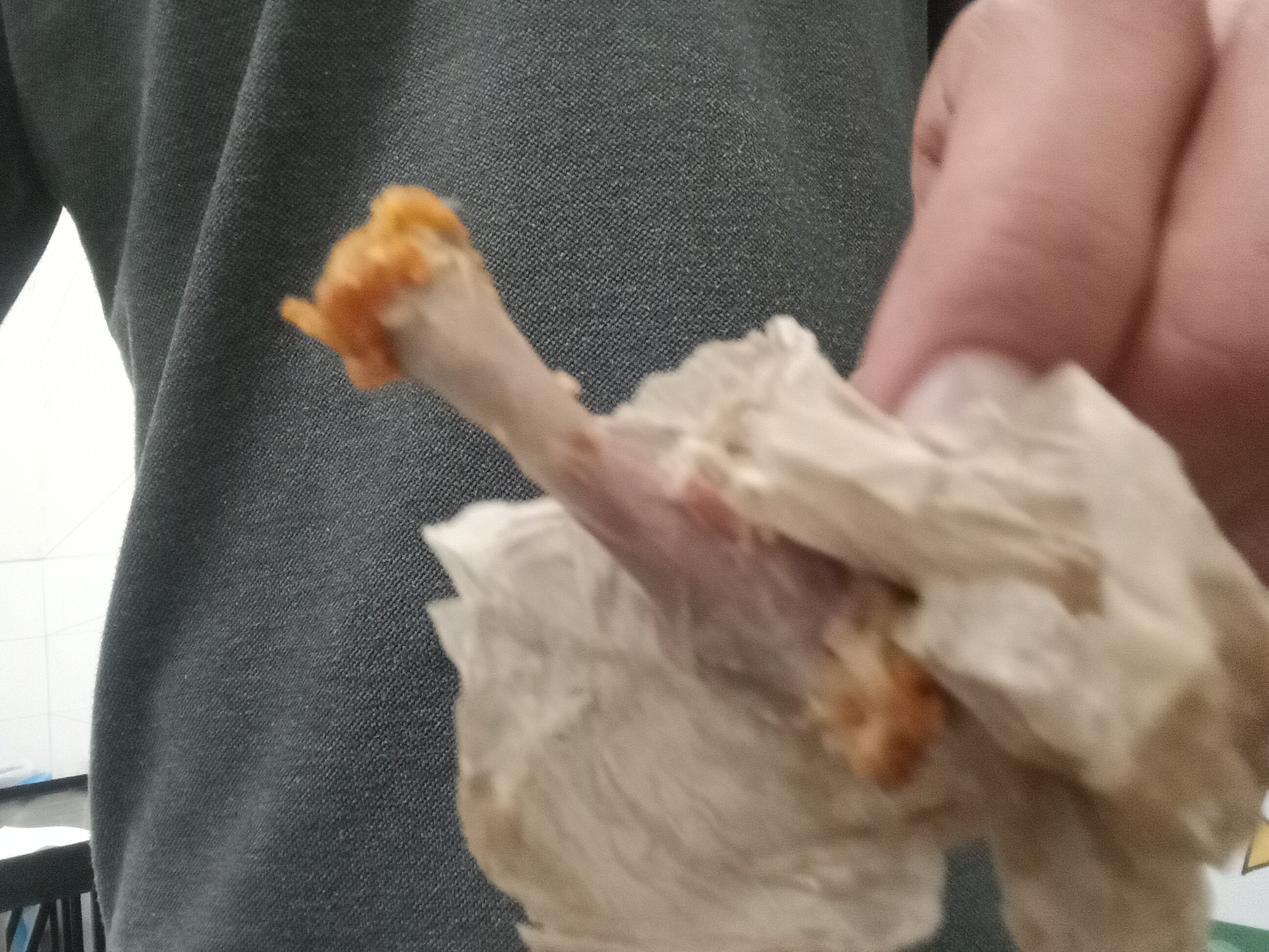Organico: (277, 183, 940, 787)
